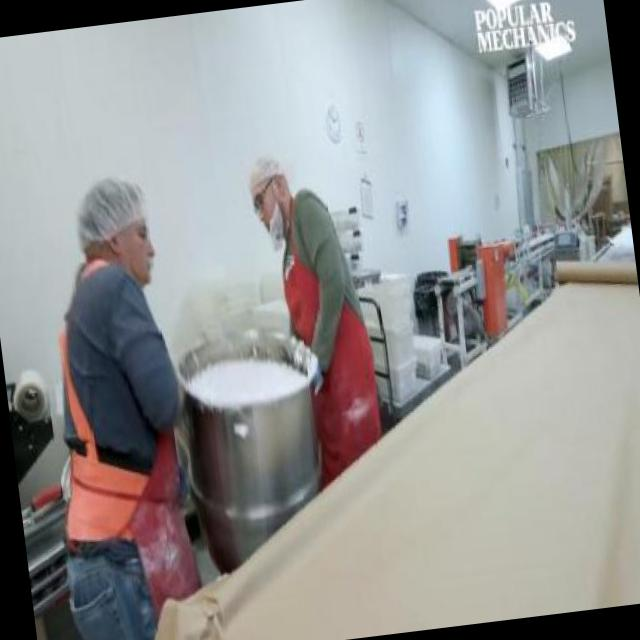hairnet: (68, 176, 152, 225), (244, 152, 285, 185)
